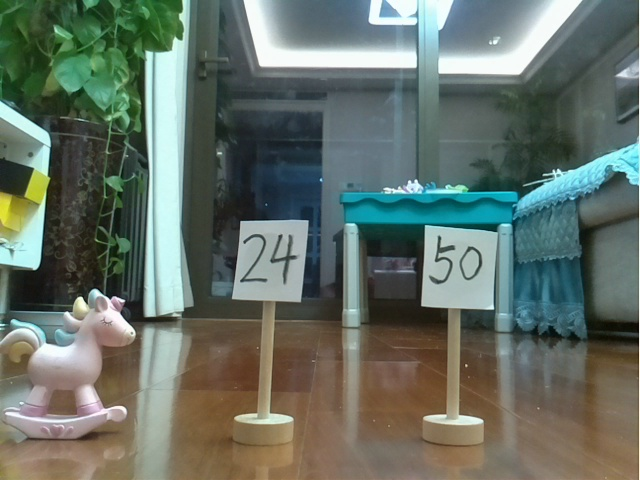Horse: (3, 290, 145, 443)
Speed Limit 24: (227, 213, 311, 447)
Speed Limit 50: (416, 219, 498, 457)
